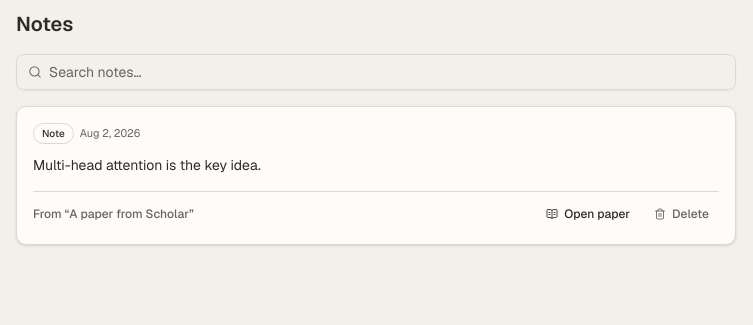
Test case: NotesPage › explains why a paper could not be opened instead of doing nothing
The width and height of the screenshot is (753, 325).
Click the button "Open paper".
click(588, 214)  # box [536,200,640,228]
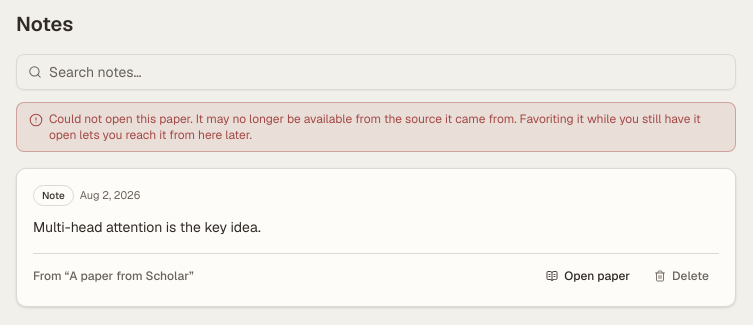
Now the message shows "Could not open this paper", box [49,111,701,143]
